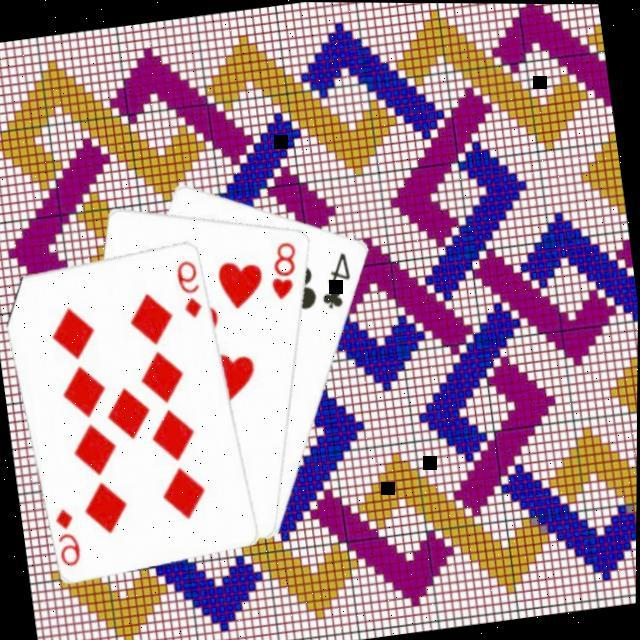4C: (312, 248, 358, 314)
8H: (261, 237, 305, 305)
9D: (171, 256, 206, 323), (50, 504, 85, 570)
